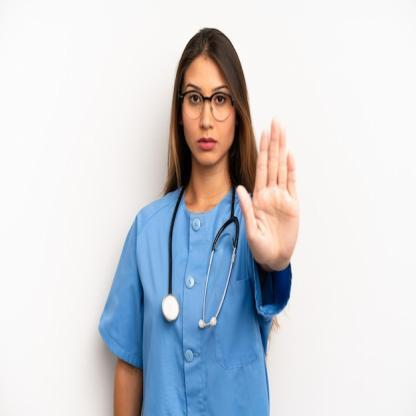stop: (234, 112, 302, 268)
